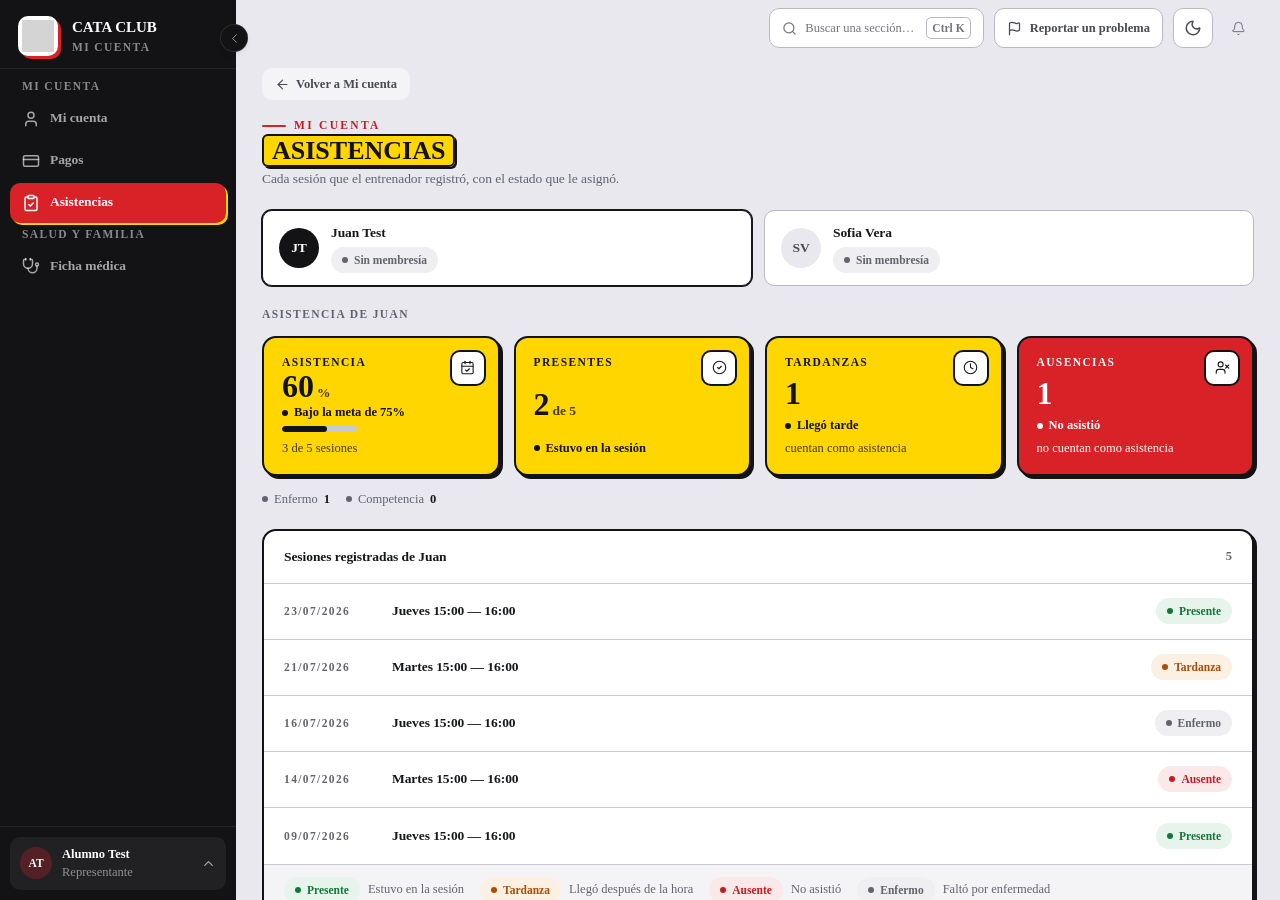
StudentAttendancePage — guardian with dependents › switches the record when the guardian picks another dependent
Expected: the text "3 de 5 sesiones" is shown, [282,439,357,458]
Click the button "SV Sofia Vera Sin membresía" at (801, 248), box [764,210,1254,286]
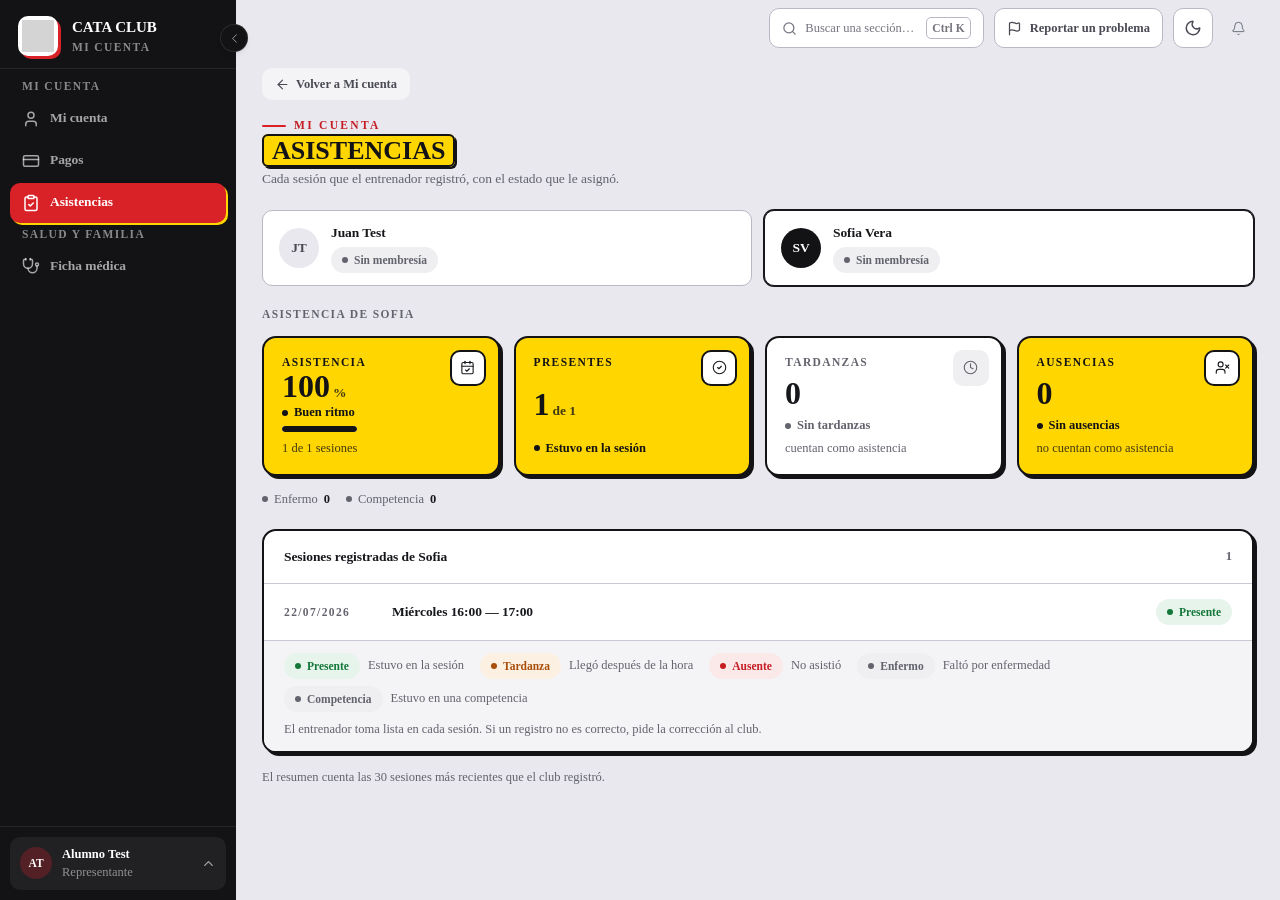
Expected: the text "22/07/2026" is shown, [284,606,350,618]
Expected: the text "3 de 5 sesiones" is gone
